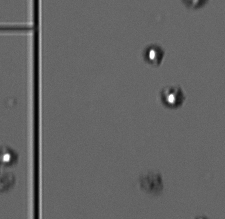Dead Cell: (142, 171, 166, 194), (1, 171, 17, 192), (178, 1, 206, 9)
Living Cell: (160, 83, 184, 109), (142, 42, 165, 67), (1, 147, 17, 167)
